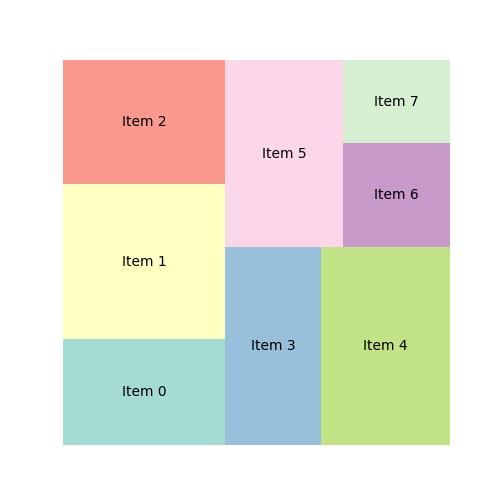rectangle: (321, 247, 449, 446), (64, 182, 225, 340), (224, 59, 342, 247), (224, 246, 324, 445), (63, 61, 224, 184), (64, 342, 224, 446), (341, 143, 449, 248), (342, 59, 450, 143)
